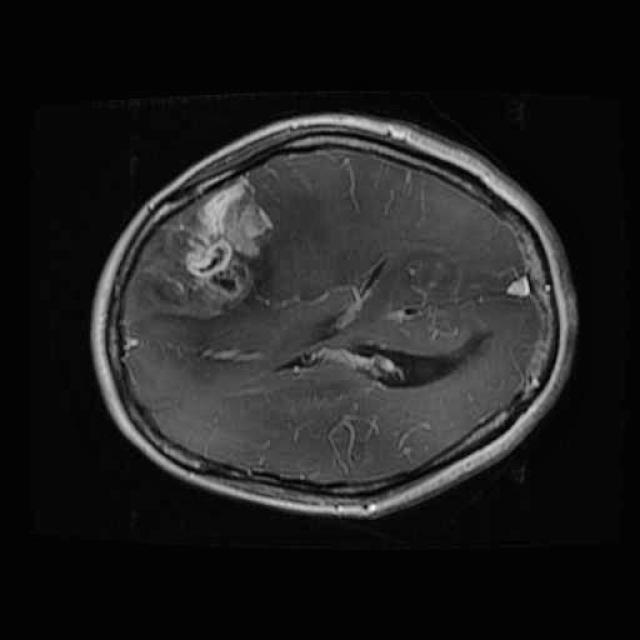Tumor: (126, 160, 290, 331)
